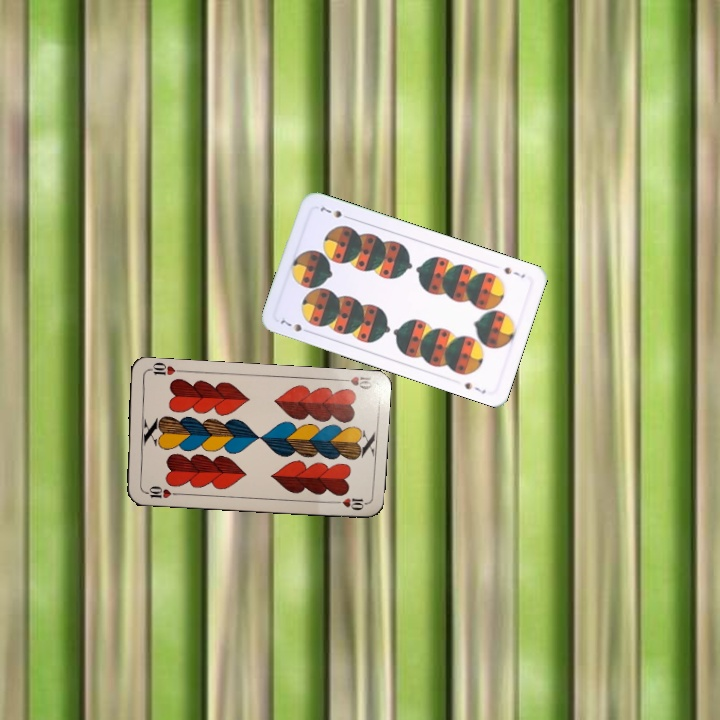H10: (334, 372, 374, 393), (139, 482, 180, 501)
S7: (276, 314, 314, 336), (500, 263, 528, 280)
